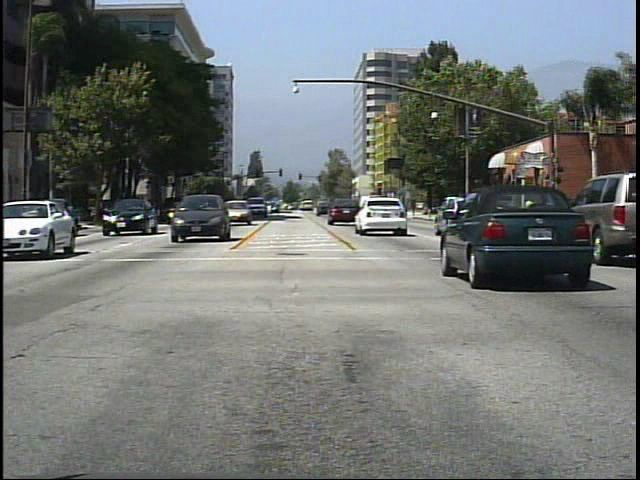person: (488, 189, 506, 224), (522, 195, 540, 229)
